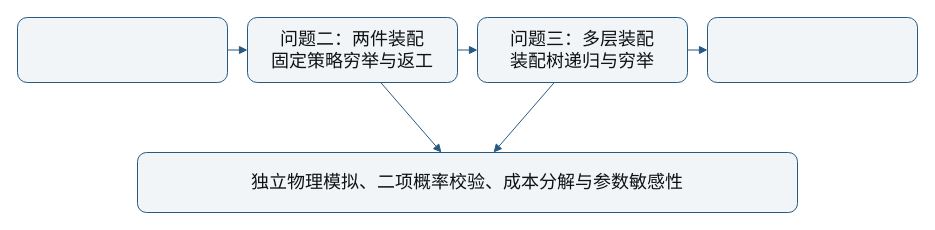
This 935x230 diagram has some shape labels left out. The shapes that lost their labels are listed below. From the top down, each one's centre as x and y in pixels, then its label:
pixel 122 49: 问题一：抽样证据 随时有效的两侧边界
pixel 812 49: 问题四：抽样误差 同时区间与鲁棒决策
